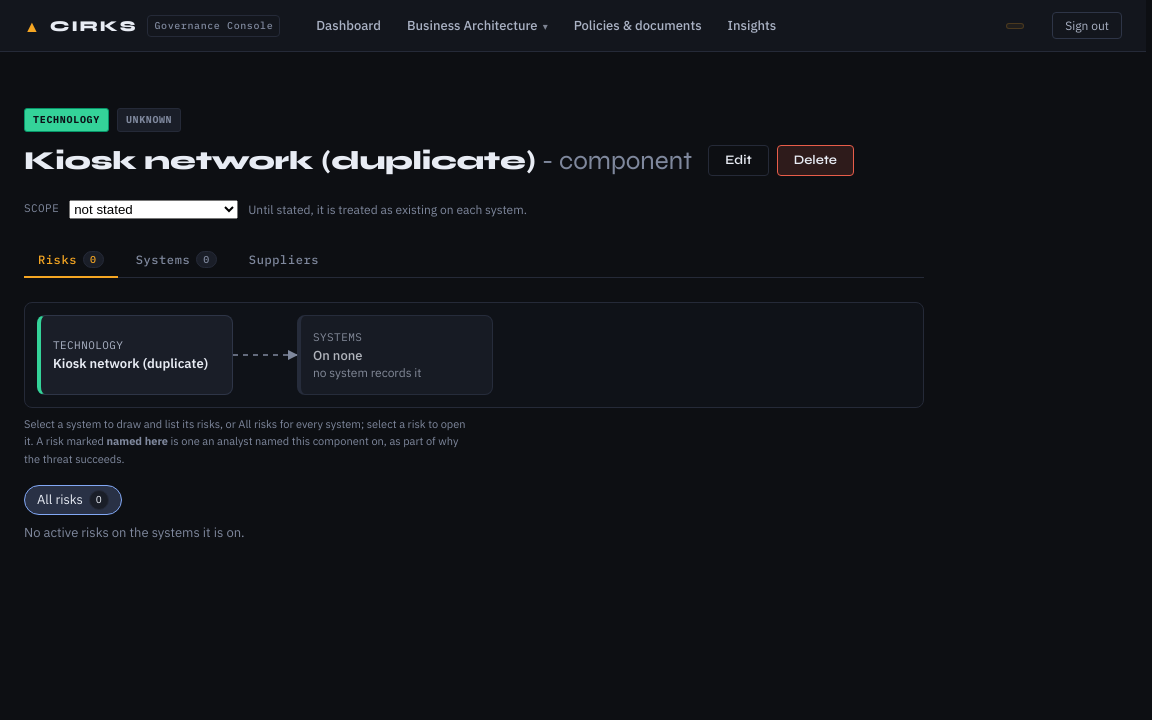
one still in use is refused, and the page says where it is used
The width and height of the screenshot is (1152, 720).
Click the button "Delete".
click(815, 161)  # box [777,145,854,176]
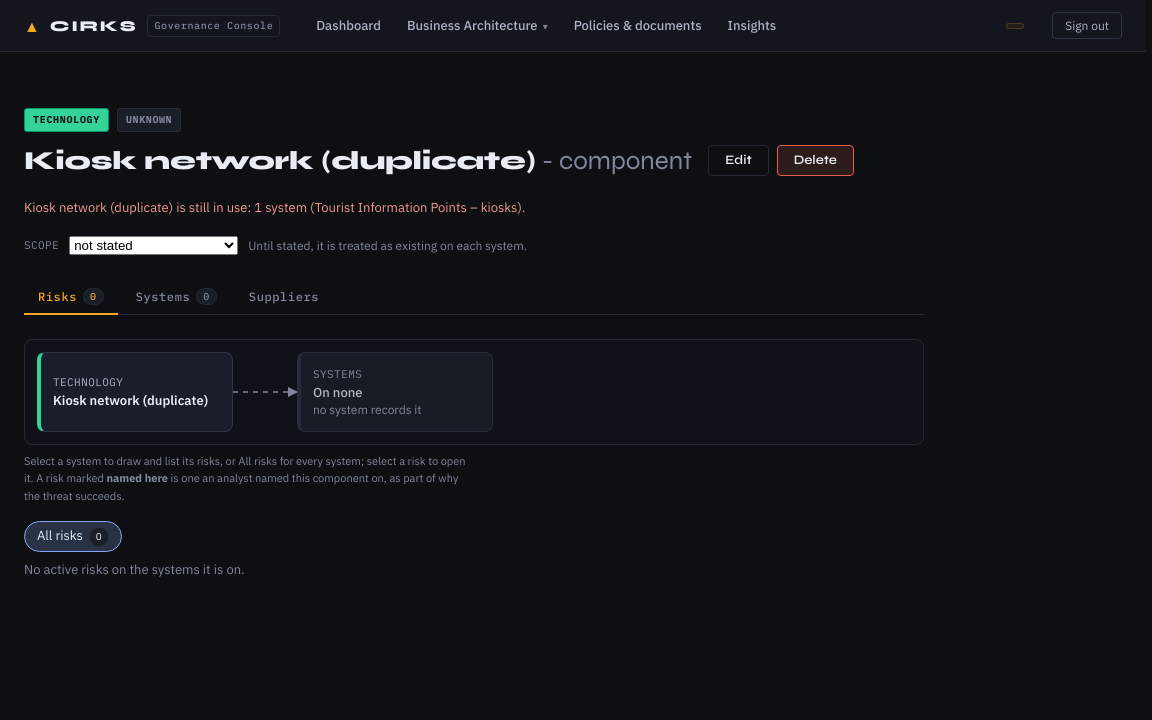
Check: the message shows "1 system (Tourist Information Points – kiosks)", box [24,199,525,216]
